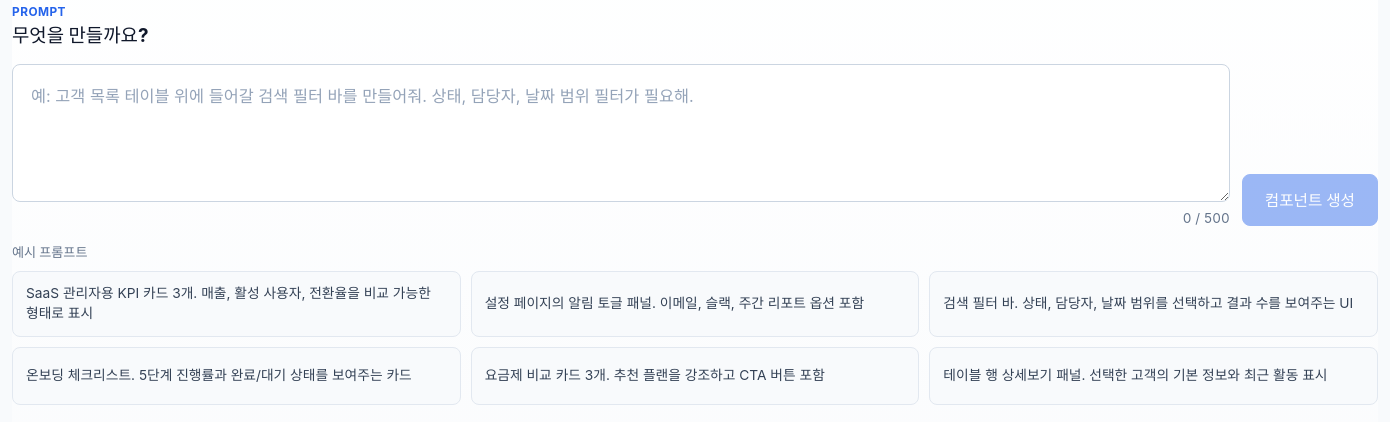
Scenario: PromptInput › 입력한 글자 수를 "현재 / 500" 형식으로 보여준다
The width and height of the screenshot is (1390, 422).
In the text box: (621, 133) [12, 64, 1230, 202], type "프로필 카드"
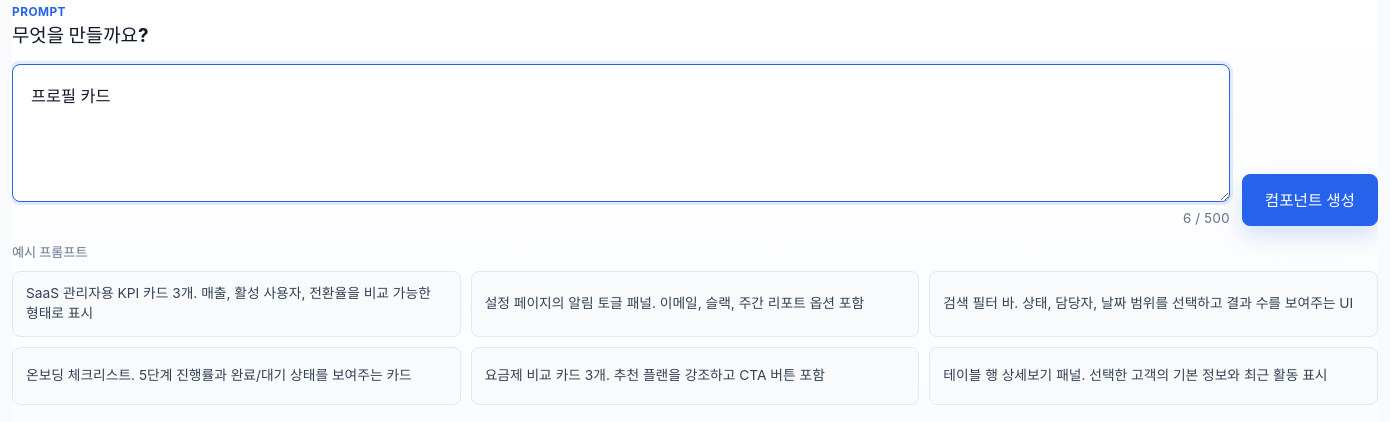
Check: the text "6 / 500" is shown, box [1183, 210, 1230, 226]
